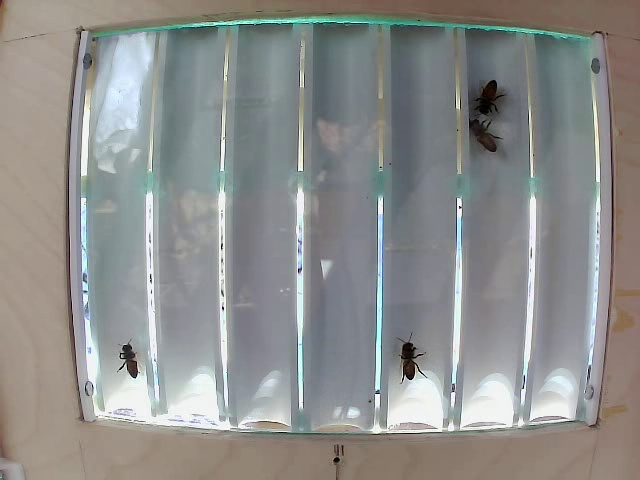bee: (107, 333, 152, 391), (393, 310, 422, 387), (466, 112, 503, 168), (465, 75, 503, 125)
